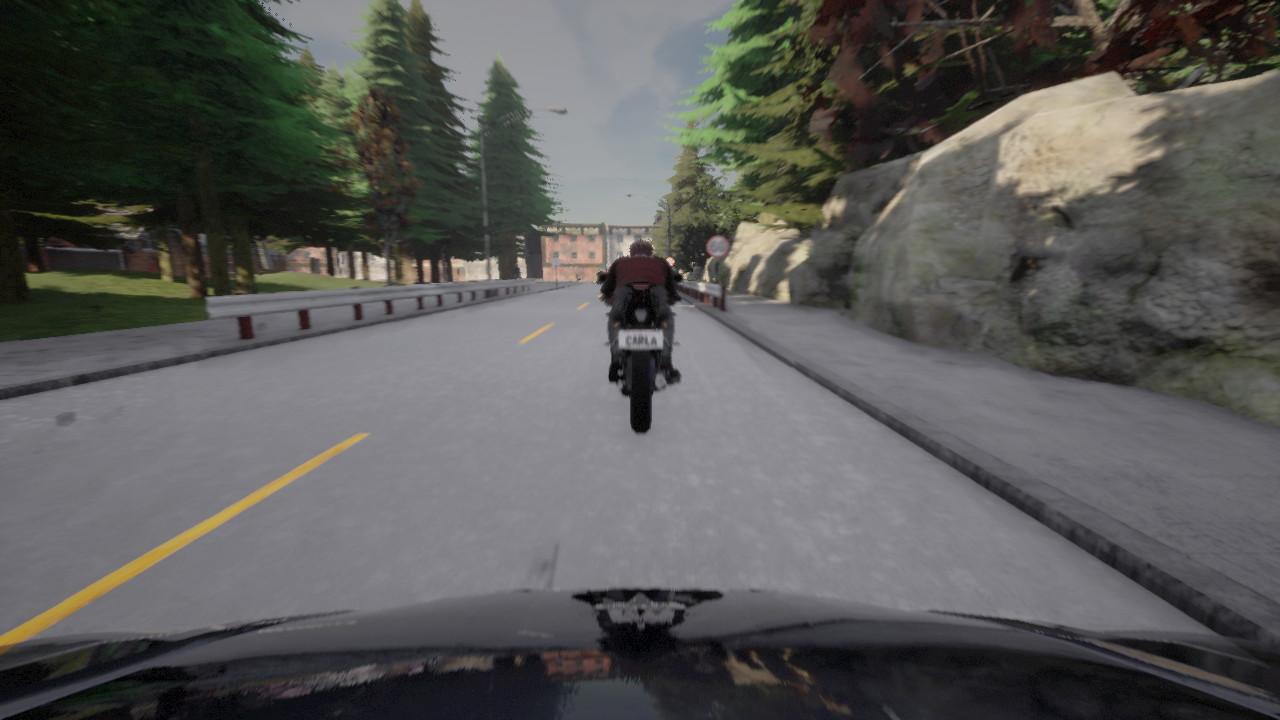cyclist: (0, 588, 1279, 719), (598, 273, 682, 432), (569, 275, 582, 281)
pedestrian: (513, 263, 521, 287), (693, 262, 702, 281), (718, 276, 720, 283)
